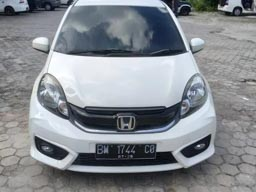plat: (94, 143, 157, 153)
